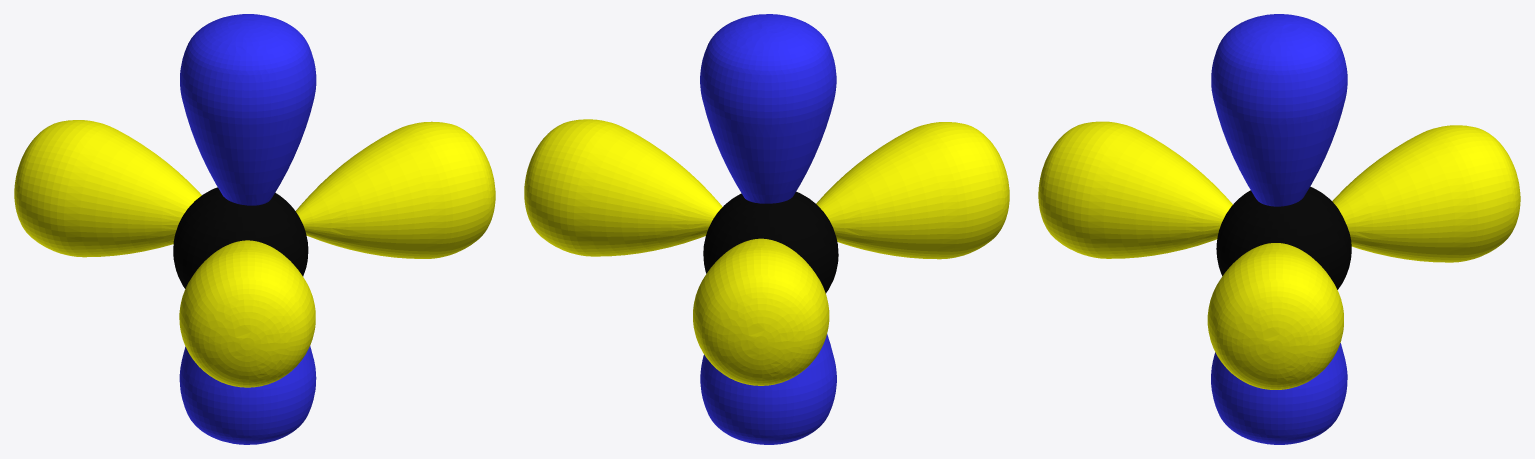
File: 2Carbono_sp2.glb
3 views of the same model, side by side, from view 1: azimuth 30°, elevation 25°; view 2: azimuth 150°, elevation 25°; view 3: azimuth 270°, elevation 25° (orthographic).
Visible parts, largest first — view 1: root; view 2: root; view 3: root.
Part boxes in pixels (x1,y1,x2,y2): root: [14, 14, 495, 444]; root: [524, 14, 1009, 444]; root: [1038, 14, 1520, 444].
Bounding box in the file's own units: 0.949 × 0.9811 × 1.04.
